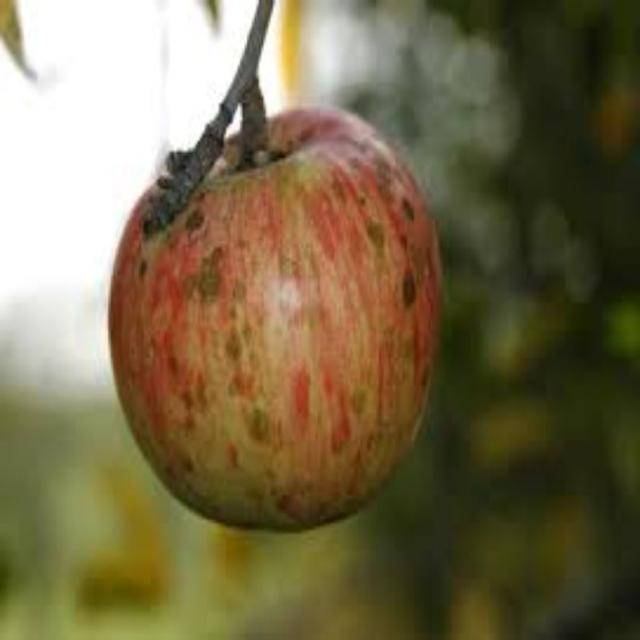Rotten Apple: (96, 84, 459, 544)
